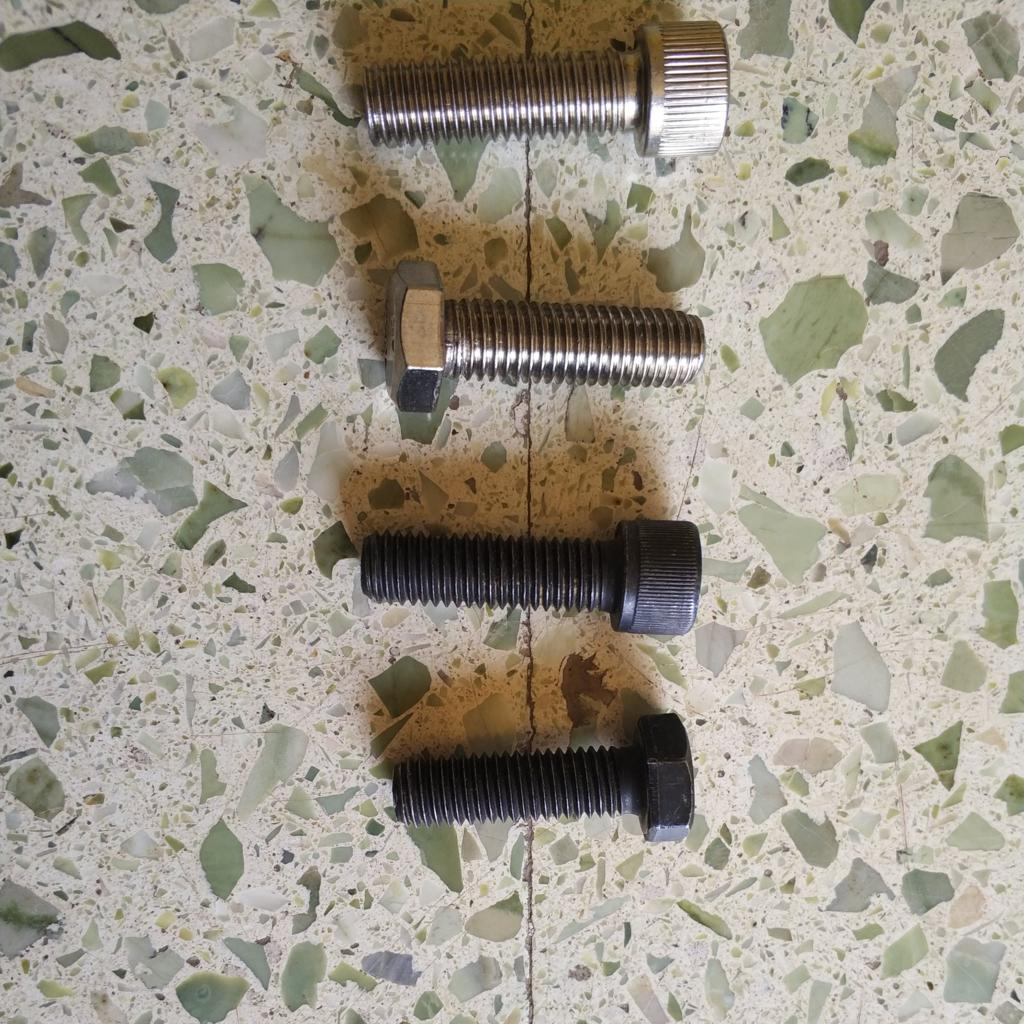screwtype1silver: (361, 17, 735, 177), (348, 502, 702, 640)
screwtype2black: (391, 714, 697, 850)
screwtype2silver: (380, 250, 714, 419)
